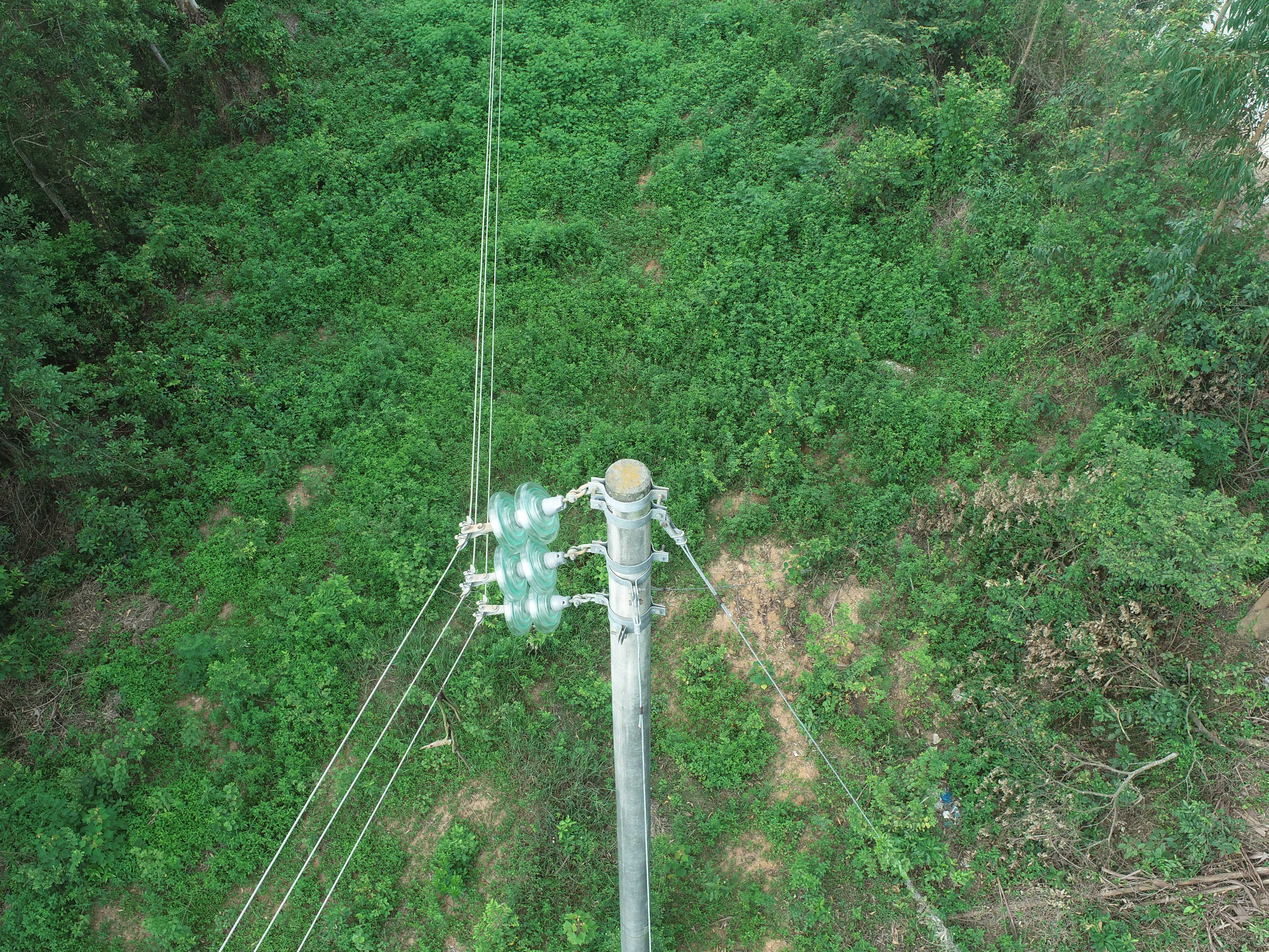异物: (419, 684, 472, 779)
